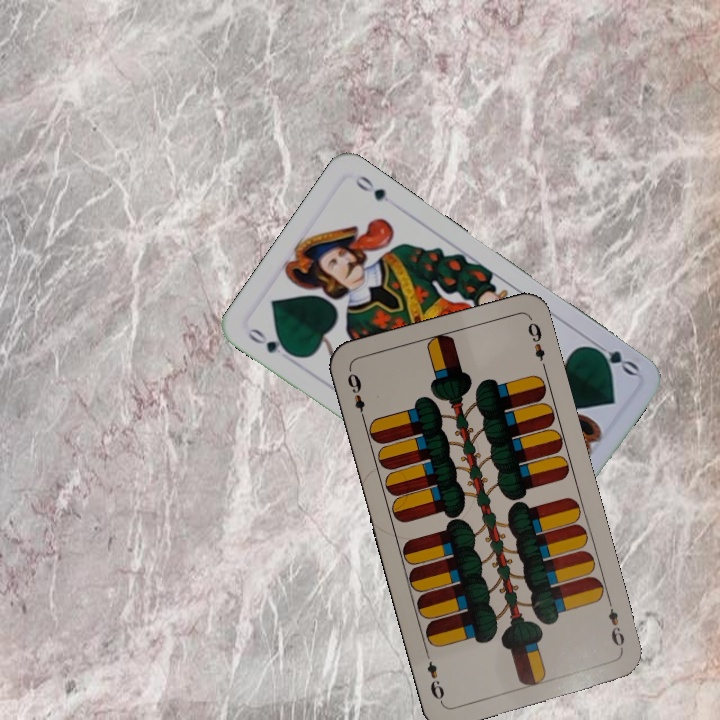E9: (343, 366, 368, 424), (603, 595, 627, 654)
GO: (585, 336, 642, 379), (243, 324, 297, 359)
